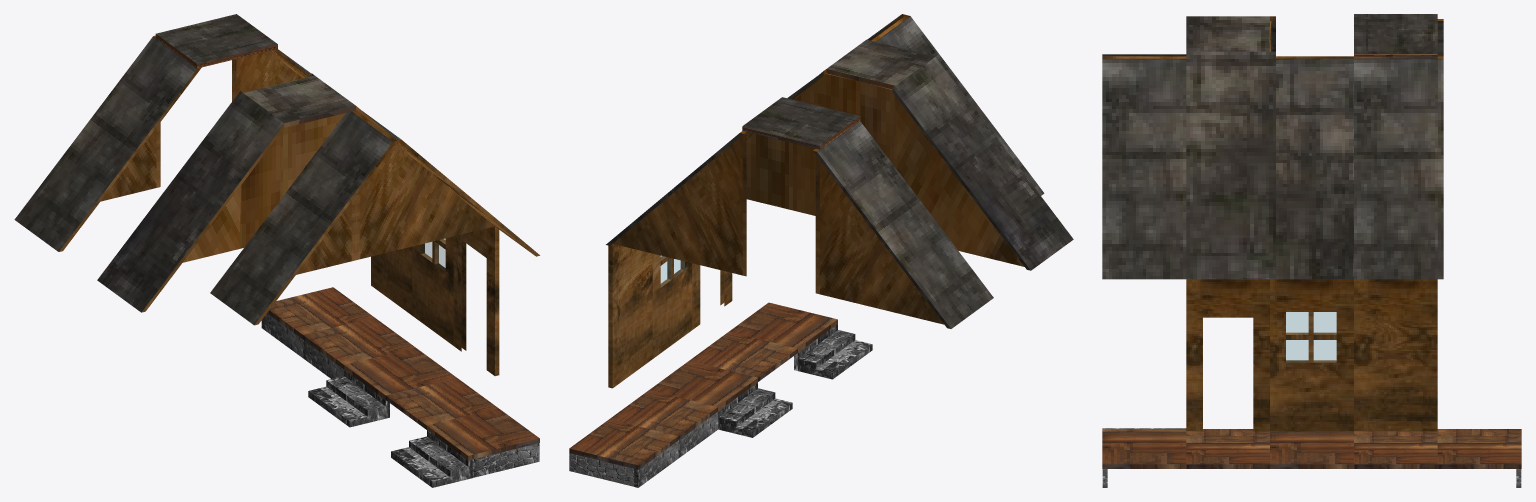
Rendered from ModularHouse1.9.glb.
3 views of the same model, side by side, from view 1: azimuth 30°, elevation 25°; view 2: azimuth 150°, elevation 25°; view 3: azimuth 270°, elevation 25° (orthographic). The views are drawn at different scales.
Visible parts, largest first — view 1: Roof.001, RoofCombo, Roof2, CornerStair, StairBase, Door, Top, Base, CornerBase, Window, Floor.002, Roof (+1 smaller); view 2: RoofCombo, Roof2, Roof, Wall, CornerStair, StairBase, CornerBase, Base, Top, Window, Floor.002, Roof.001 (+1 smaller); view 3: RoofCombo, Roof, Roof.001, RoofExtender, Wall, Window, Door, Top, CornerStair, CornerBase, Floor.002, Base (+1 smaller).
Part boxes in pixels (x1=…): Roof.001: x1=210, y1=110, x2=539, y2=325; RoofCombo: x1=97, y1=73, x2=397, y2=312; Roof2: x1=14, y1=35, x2=201, y2=251; CornerStair: x1=391, y1=408, x2=539, y2=487; StairBase: x1=308, y1=347, x2=456, y2=427; Door: x1=453, y1=226, x2=499, y2=375; Top: x1=155, y1=14, x2=277, y2=68; Base: x1=303, y1=317, x2=415, y2=378; CornerBase: x1=261, y1=287, x2=374, y2=357; Window: x1=412, y1=236, x2=453, y2=345; Floor.002: x1=385, y1=378, x2=498, y2=429; Roof: x1=232, y1=49, x2=310, y2=101; RoofCombo: x1=746, y1=39, x2=1073, y2=270; Roof2: x1=813, y1=121, x2=993, y2=328; Roof: x1=606, y1=131, x2=750, y2=276; Wall: x1=608, y1=244, x2=652, y2=388; CornerStair: x1=729, y1=302, x2=872, y2=379; StairBase: x1=649, y1=361, x2=792, y2=437; CornerBase: x1=569, y1=419, x2=678, y2=487; Base: x1=609, y1=390, x2=718, y2=458; Top: x1=742, y1=97, x2=860, y2=149; Window: x1=652, y1=253, x2=692, y2=358; Floor.002: x1=689, y1=332, x2=797, y2=381; Roof.001: x1=867, y1=14, x2=1044, y2=195; RoofCombo: x1=1186, y1=16, x2=1275, y2=279; Roof: x1=1354, y1=56, x2=1443, y2=279; Roof.001: x1=1102, y1=54, x2=1186, y2=279; RoofExtender: x1=1276, y1=56, x2=1353, y2=279; Wall: x1=1354, y1=279, x2=1437, y2=431; Window: x1=1270, y1=279, x2=1353, y2=431; Door: x1=1186, y1=279, x2=1269, y2=431; Top: x1=1354, y1=14, x2=1437, y2=58; CornerStair: x1=1102, y1=428, x2=1186, y2=487; CornerBase: x1=1437, y1=429, x2=1521, y2=487; Floor.002: x1=1186, y1=429, x2=1269, y2=468; Base: x1=1354, y1=431, x2=1437, y2=468.
Bounding box in the file's own units: 10.01 × 9.63 × 10.
Materials: 5 (4 with a texture image).
